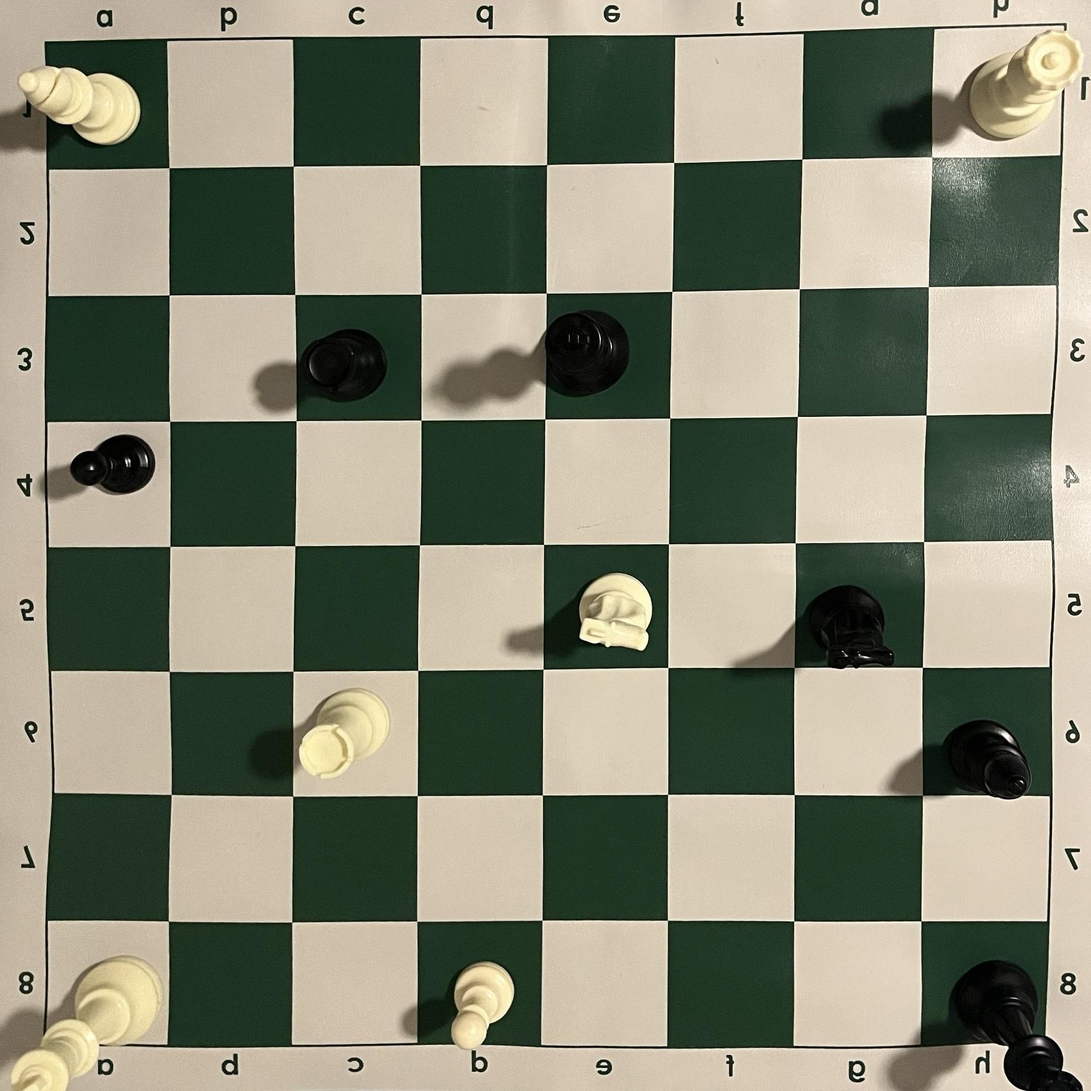black_bishop: (940, 719, 1033, 800)
black_king: (545, 309, 631, 397)
black_knight: (802, 584, 895, 671)
black_pawn: (69, 435, 156, 496)
black_queen: (945, 958, 1091, 1091)
black_rook: (297, 328, 388, 403)
white_bishop: (17, 64, 142, 148)
white_king: (10, 955, 162, 1091)
white_knight: (577, 572, 654, 654)
white_pawn: (449, 960, 517, 1051)
white_queen: (965, 29, 1083, 140)
white_rook: (298, 688, 391, 780)
